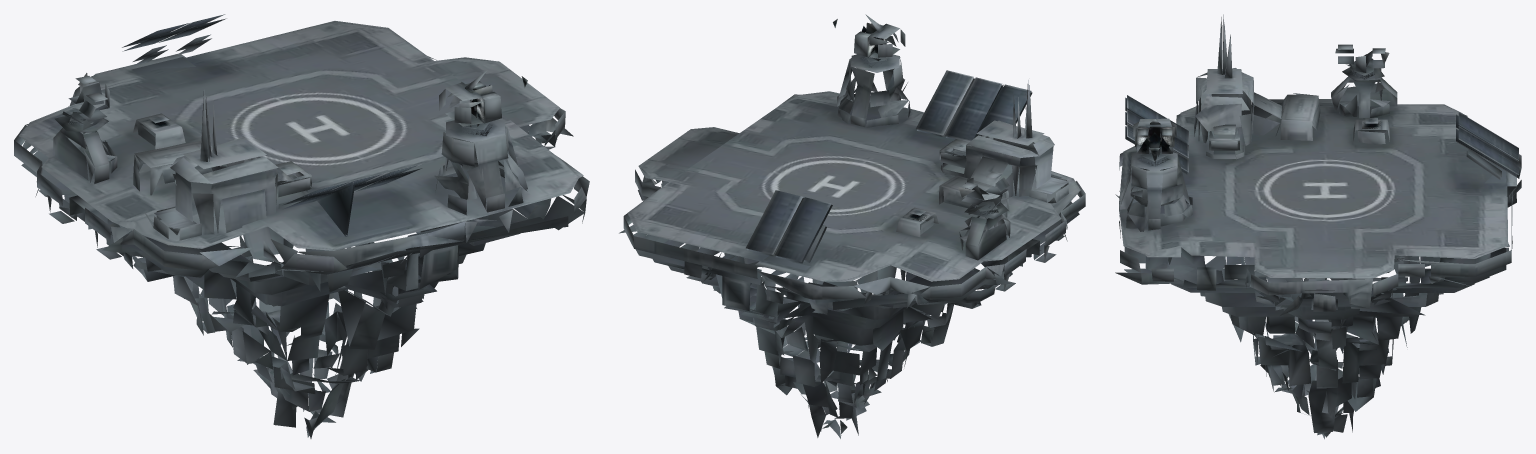
The model's file is sky-base-platform-v1-lod1.glb.
3 renders of one model, left to right at view 1: azimuth 30°, elevation 25°; view 2: azimuth 150°, elevation 25°; view 3: azimuth 270°, elevation 25°, orthographic. The views are drawn at different scales.
Visible parts, largest first — view 1: sky-base-platform-v1-lod1; view 2: sky-base-platform-v1-lod1; view 3: sky-base-platform-v1-lod1.
Part boxes in pixels (<box>): sky-base-platform-v1-lod1: <box>14,14,589,438</box>; sky-base-platform-v1-lod1: <box>619,14,1085,438</box>; sky-base-platform-v1-lod1: <box>1115,14,1521,439</box>.
Size of the model in its own units: 459 by 402 by 414.
Materials: 1 (1 with a texture image).
